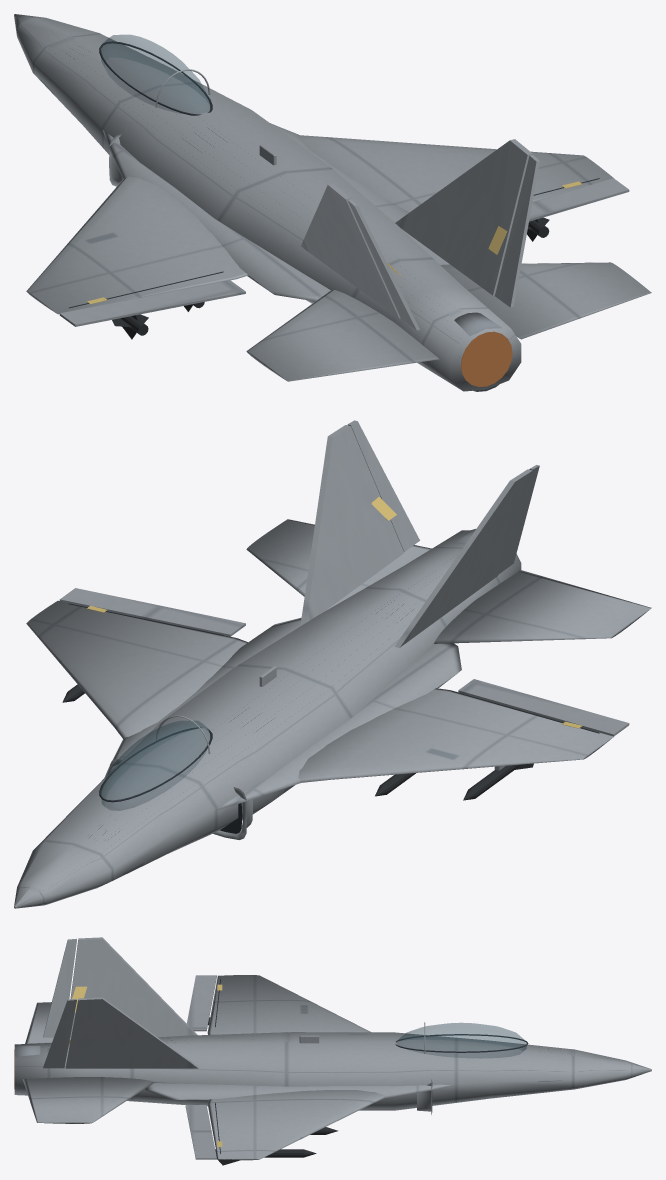
Rendered from wings_f35a.glb.
3 views of the same model, one above another, from view 1: azimuth 30°, elevation 25°; view 2: azimuth 150°, elevation 25°; view 3: azimuth 270°, elevation 25° (orthographic). The views are drawn at different scales.
Parts seen in each view (by area): view 1: airframe_static, tailplane_L, tailplane_R, canopy, flaperon_L, rudder_2, exhaust_core, flaperon_R, rudder_1, missile_L2; view 2: airframe_static, tailplane_L, canopy, tailplane_R, flaperon_R, flaperon_L, rudder_2, rudder_1, missile_L2; view 3: airframe_static, tailplane_R, canopy, rudder_1, flaperon_L, flaperon_R, rudder_2, tailplane_L, missile_R2.
Part boxes in pixels (x1,y1,x2,y2): airframe_static: (14, 14, 613, 391); tailplane_L: (246, 290, 439, 381); tailplane_R: (440, 262, 651, 339); canopy: (101, 34, 210, 113); flaperon_L: (59, 280, 245, 326); rudder_2: (495, 154, 539, 307); exhaust_core: (460, 331, 512, 386); flaperon_R: (529, 178, 629, 221); rudder_1: (347, 199, 419, 330); missile_L2: (112, 314, 148, 339); airframe_static: (14, 425, 613, 908); tailplane_L: (434, 570, 651, 643); canopy: (101, 720, 210, 810); tailplane_R: (246, 519, 431, 610); flaperon_R: (59, 588, 245, 636); flaperon_L: (458, 679, 629, 736); rudder_2: (347, 420, 419, 551); rudder_1: (499, 465, 539, 573); missile_L2: (463, 763, 533, 800); airframe_static: (14, 937, 651, 1160); tailplane_R: (22, 1077, 154, 1123); canopy: (396, 1022, 526, 1058); rudder_1: (43, 938, 76, 1037); flaperon_L: (187, 975, 216, 1031); flaperon_R: (185, 1105, 216, 1159); rudder_2: (43, 999, 76, 1068); tailplane_L: (25, 1002, 70, 1043); missile_R2: (215, 1149, 316, 1165).
Size of the model in its own units: 10.7 by 3.6 by 15.72.
7 materials, 1 textured.
